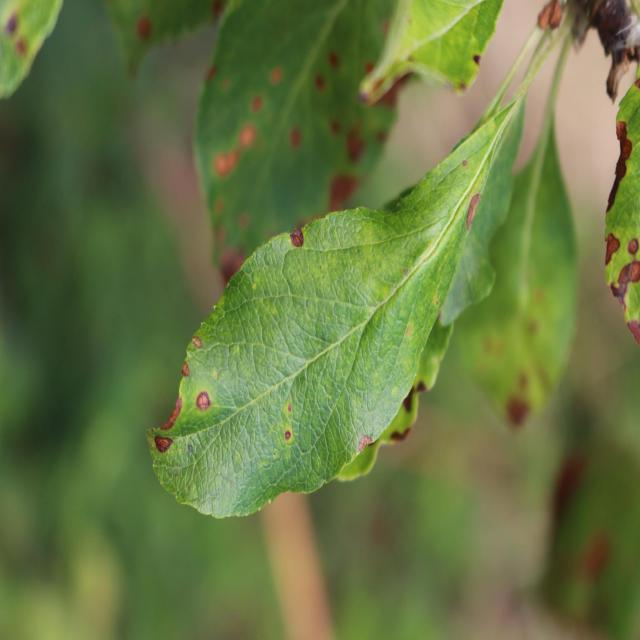Black Rot: (190, 0, 410, 286), (600, 66, 640, 386), (190, 382, 224, 430), (154, 386, 185, 434), (463, 182, 483, 245), (288, 210, 310, 258), (354, 427, 382, 456), (275, 422, 302, 452), (148, 432, 177, 458), (187, 325, 208, 357), (458, 146, 476, 176), (170, 357, 192, 381)
